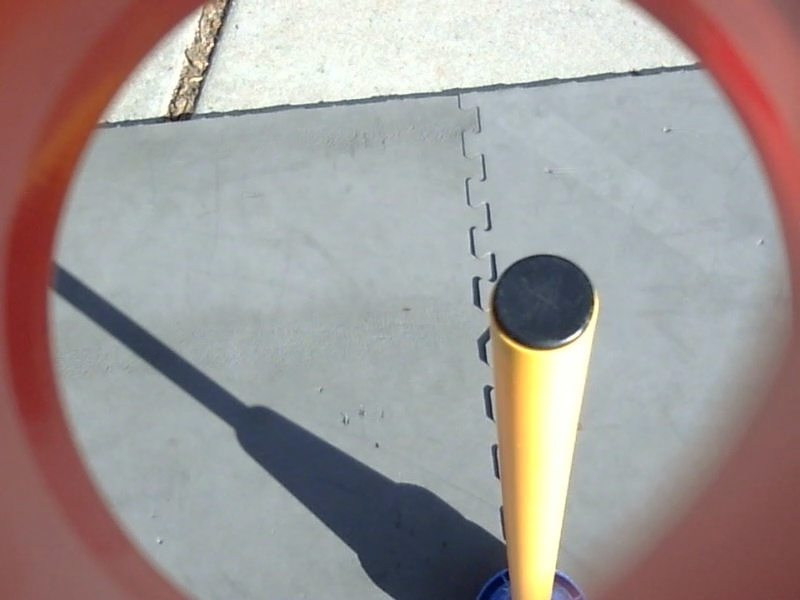tip: (484, 247, 607, 361)
